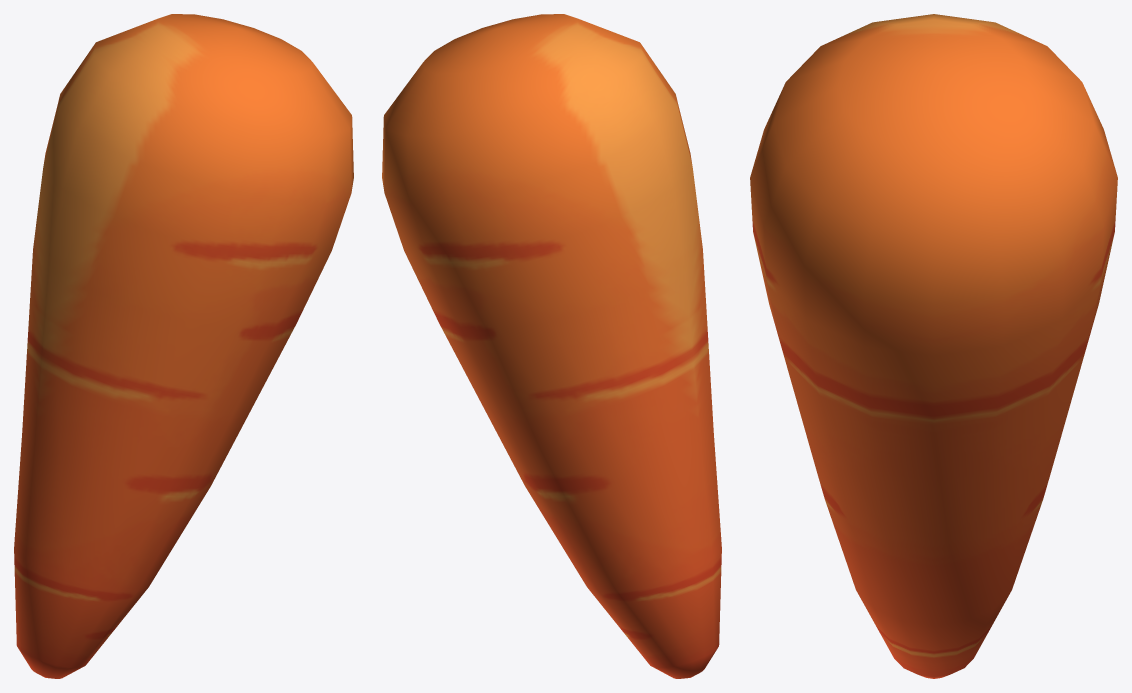
3 views of the same model, side by side, from view 1: azimuth 30°, elevation 25°; view 2: azimuth 150°, elevation 25°; view 3: azimuth 270°, elevation 25° (orthographic). The views are drawn at different scales.
Visible parts, largest first — view 1: carrot; view 2: carrot; view 3: carrot.
Boxes of the visible parts, left/top/right/bottom form: carrot: left=14, top=14, right=353, bottom=678; carrot: left=382, top=14, right=721, bottom=678; carrot: left=750, top=14, right=1117, bottom=678.
Bounding box in the file's own units: 0.6488 × 1.21 × 0.5592.
1 material, 1 textured.
